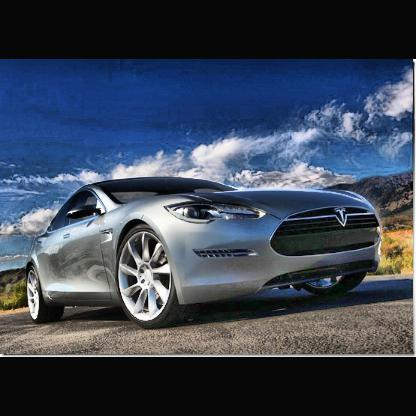Tesla Model S Sedan 2012: (28, 179, 383, 329)
